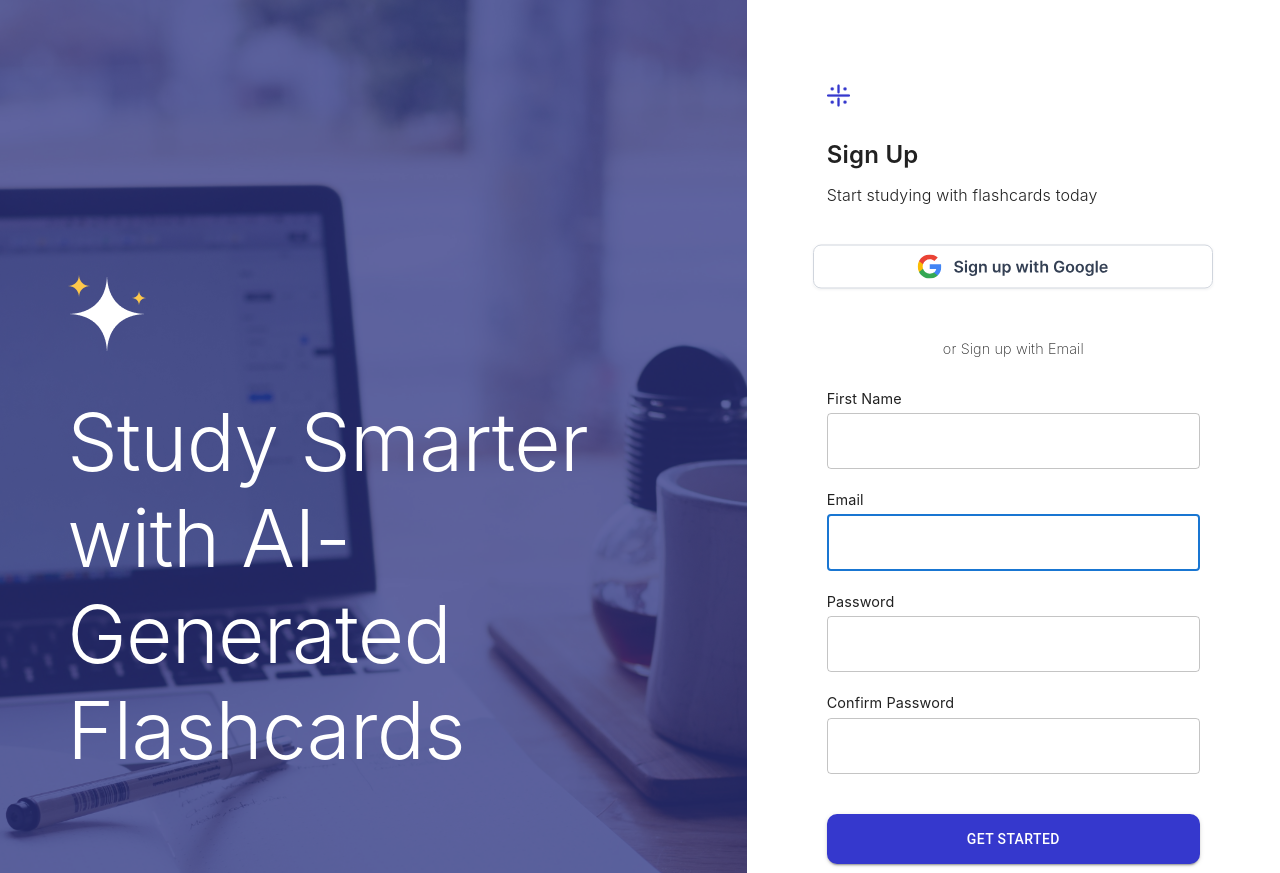
Test: Register Component › displays error message when form is submitted with empty fields
This screenshot has width=1280, height=873.
Click the button "Get started": [1013, 839] box [827,814,1200,864]
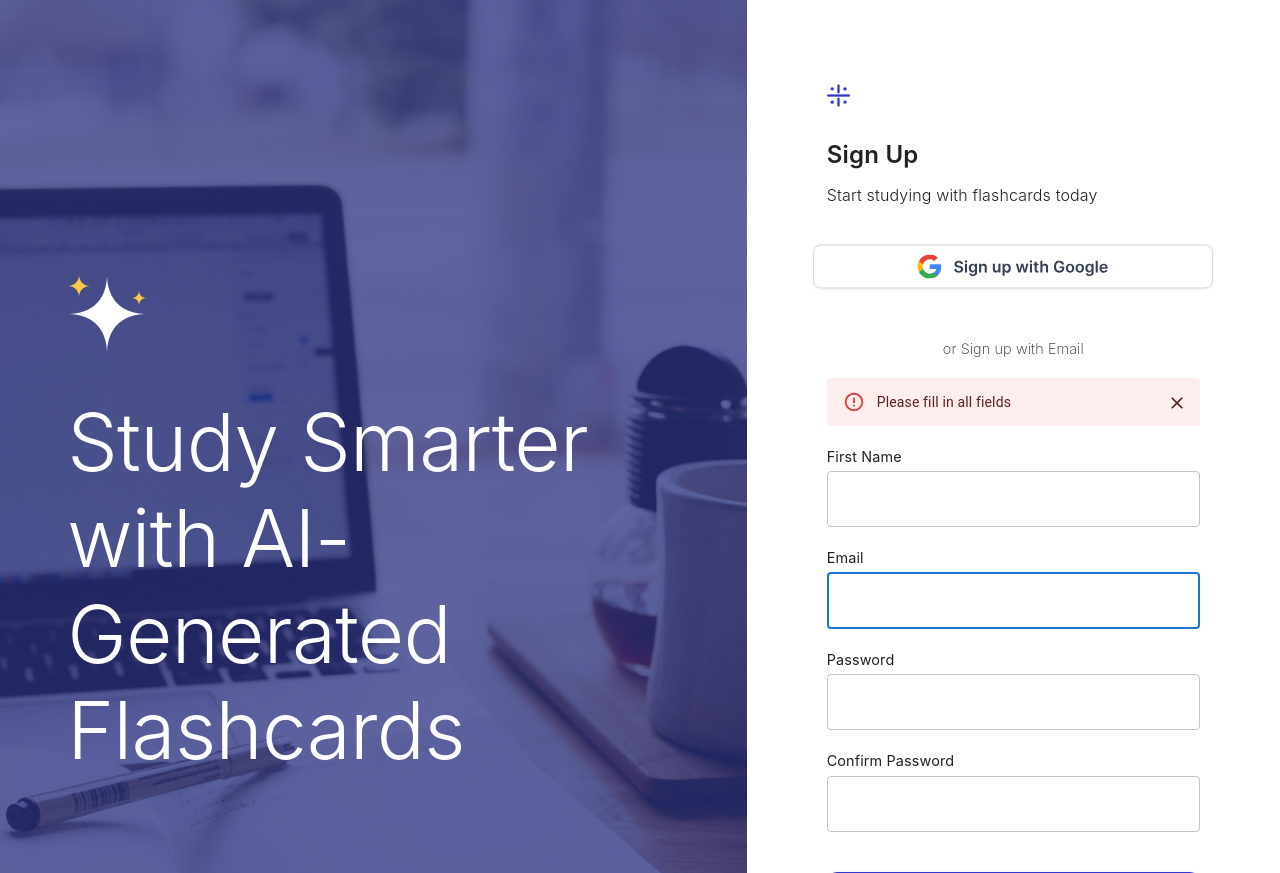
Expected: the text "Please fill in all fields" is shown, [877,394,1011,410]
